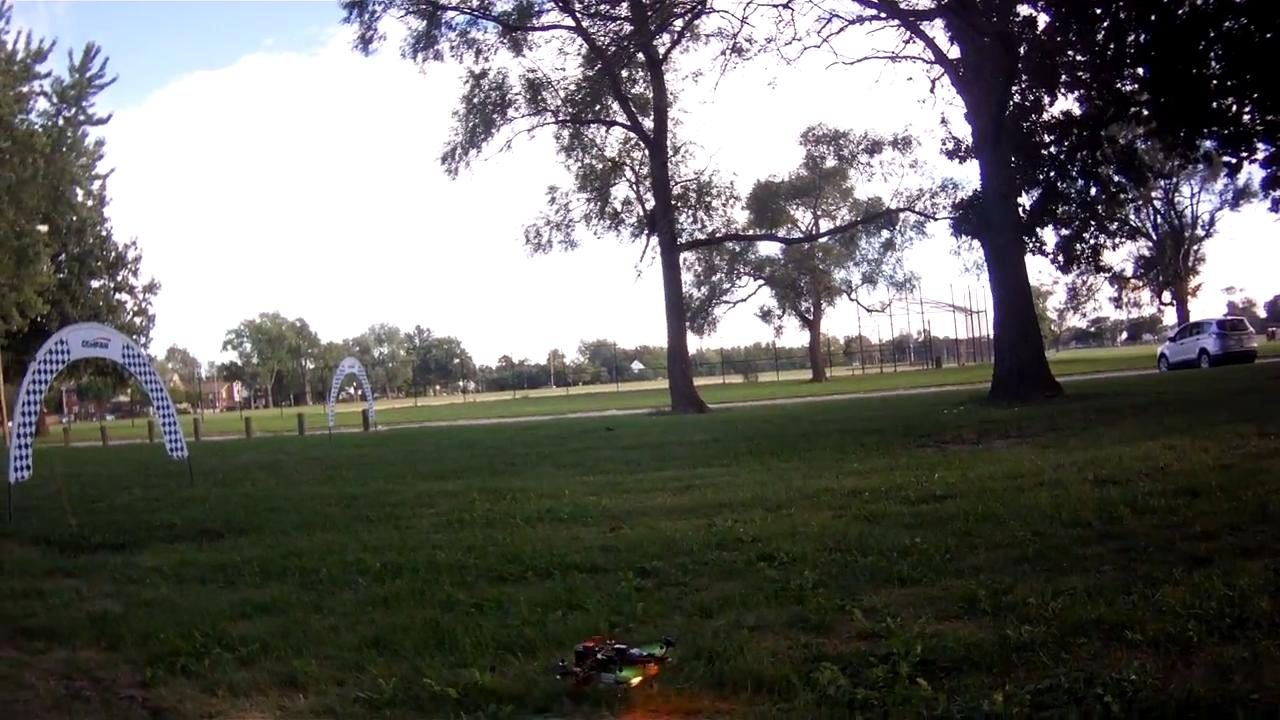gate: (3, 316, 191, 494), (320, 354, 379, 435)
